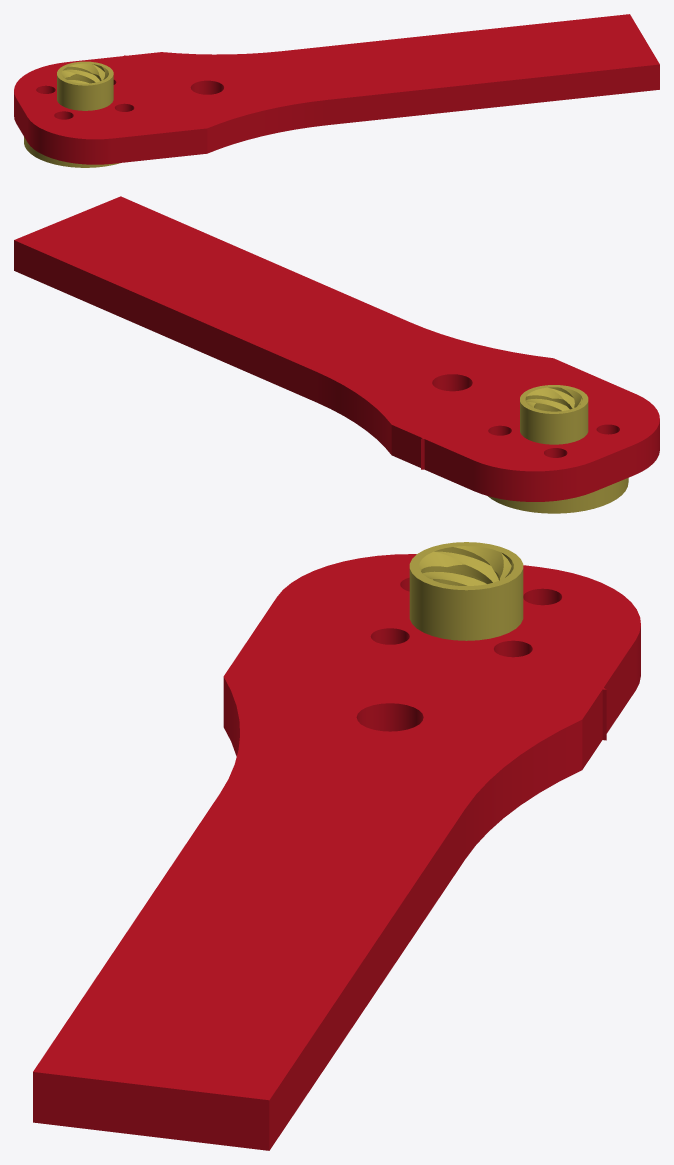
File: Finger_Moving.dae
3 renders of one model, top to bottom at view 1: azimuth 30°, elevation 25°; view 2: azimuth 150°, elevation 25°; view 3: azimuth 270°, elevation 25°, orthographic. The views are drawn at different scales.
Parts seen in each view (by area): view 1: Finger_Moving; view 2: Finger_Moving; view 3: Finger_Moving.
Boxes of the visible parts, box(x1,y1,x2,y2) form: Finger_Moving: box(14, 14, 659, 167); Finger_Moving: box(14, 196, 659, 513); Finger_Moving: box(33, 542, 640, 1150).
Size of the model in its own units: 0.1157 by 0.0544 by 0.015.
